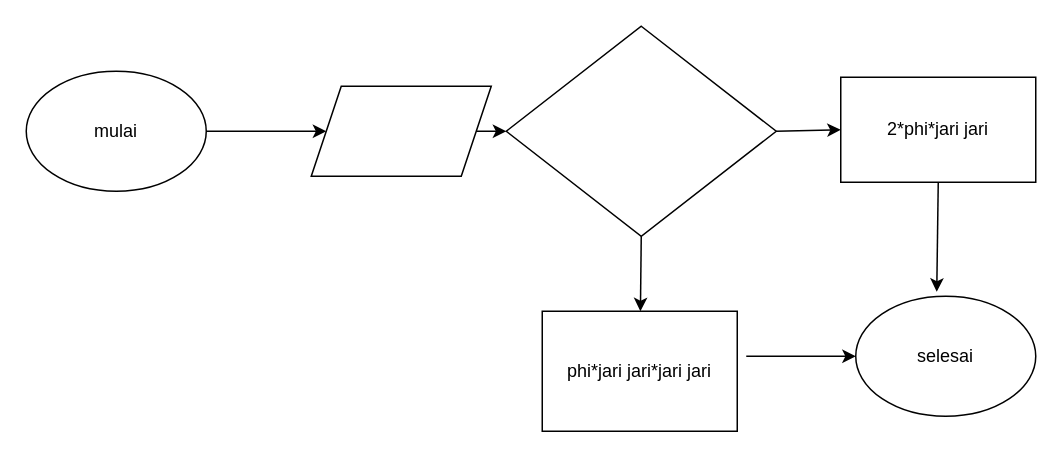
This 1062x458 diagram has some shape labels left out. The box of each missing label's shape, as (x1, y1, x2, y2) in pixels:
masukkan jari jari: (310, 85, 491, 176)
tentukan mencari keliling atau luas: (505, 25, 776, 236)
